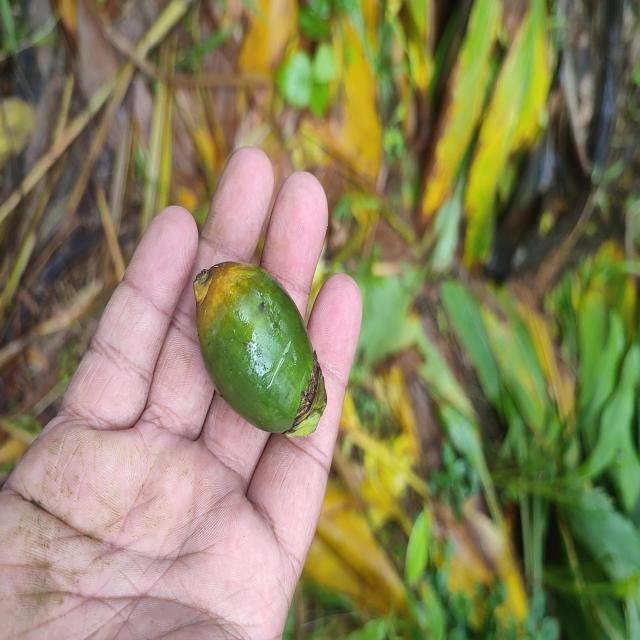good: (191, 263, 326, 437)
